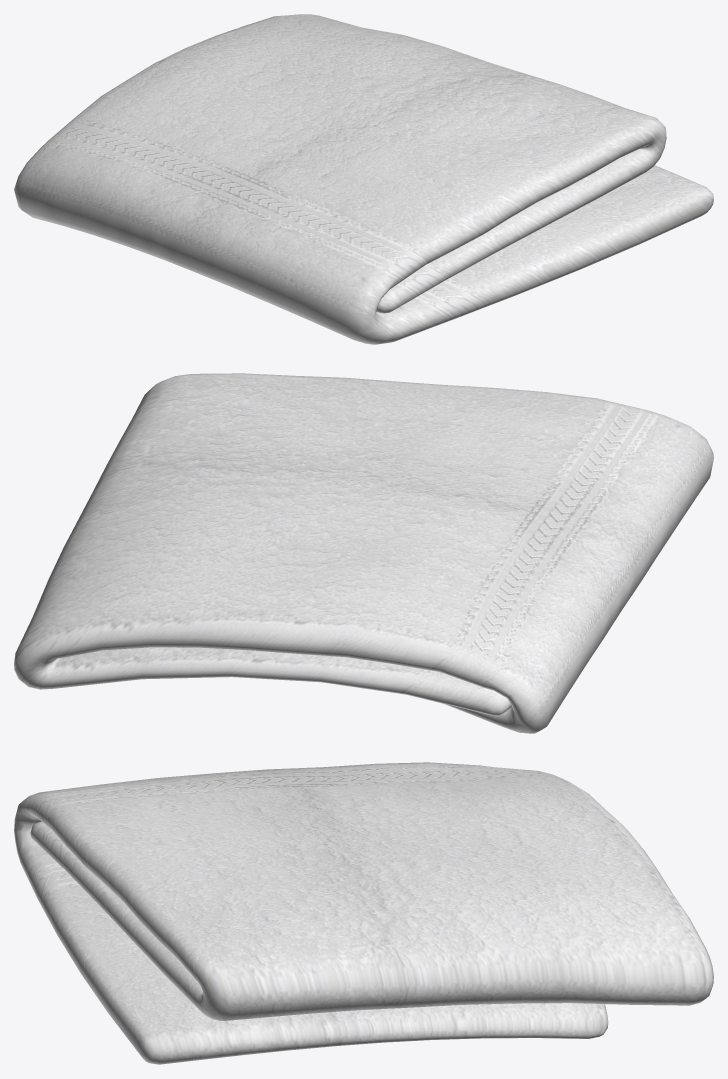
Rendered from maojin.FBX.
The picture shows the model from 3 angles, top to bottom: view 1: azimuth 30°, elevation 25°; view 2: azimuth 150°, elevation 25°; view 3: azimuth 270°, elevation 25°; orthographic projection. The views are drawn at different scales.
Parts seen in each view (by area): view 1: maojin; view 2: maojin; view 3: maojin.
Boxes of the visible parts, x1=… form: maojin: x1=14, y1=14, x2=713, y2=344; maojin: x1=14, y1=373, x2=713, y2=733; maojin: x1=14, y1=762, x2=713, y2=1064.
Bounding box in the file's own units: 16.36 × 3.27 × 18.15.
1 material, 1 textured.
